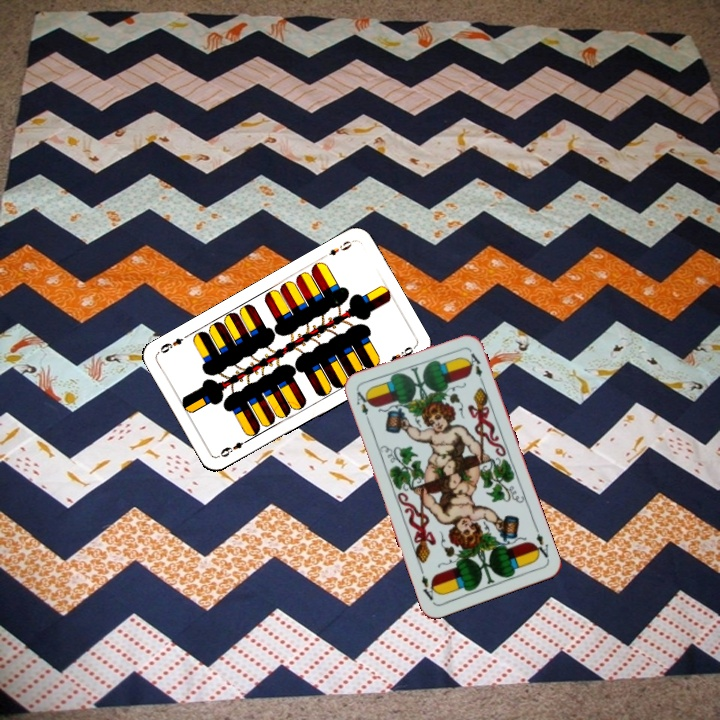E9: (318, 236, 356, 261), (216, 435, 252, 460)
EA: (529, 523, 551, 561), (352, 387, 373, 426)
